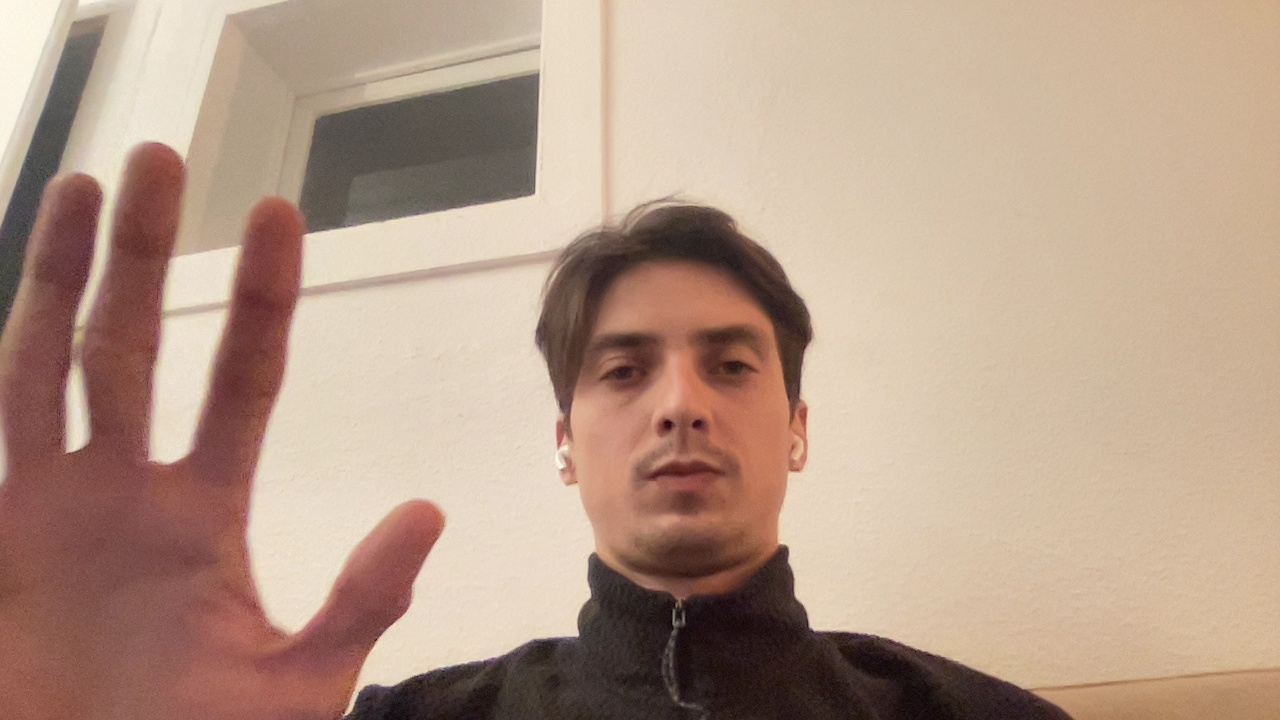Hello: (2, 94, 470, 717)
